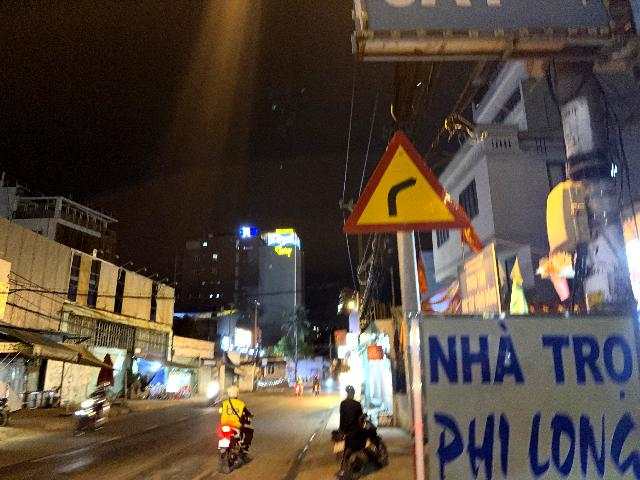cho-ngoat-nguy-hiem-ben-phai: (343, 132, 471, 232)
